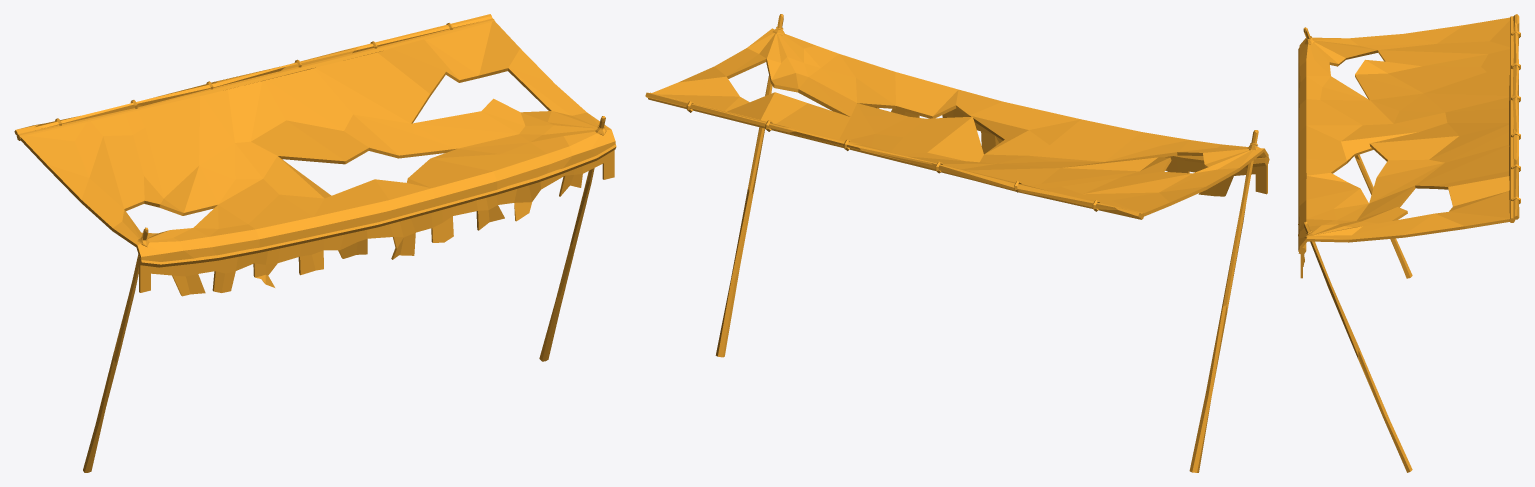
Rendered from SM_Tent_Porch_Wide_Striped_Damaged_Fantasy.fbx.
3 views of the same model, side by side, from view 1: azimuth 30°, elevation 25°; view 2: azimuth 150°, elevation 25°; view 3: azimuth 270°, elevation 25° (orthographic). The views are drawn at different scales.
Visible parts, largest first — view 1: tent-porch-wide-striped-damaged-fantasy; view 2: tent-porch-wide-striped-damaged-fantasy; view 3: tent-porch-wide-striped-damaged-fantasy.
Boxes of the visible parts, x1,y1,x2,y2 form: tent-porch-wide-striped-damaged-fantasy: (14,14,616,472); tent-porch-wide-striped-damaged-fantasy: (645,14,1269,472); tent-porch-wide-striped-damaged-fantasy: (1298,14,1520,472).
Size of the model in its own units: 4.72 by 2.86 by 2.21.
